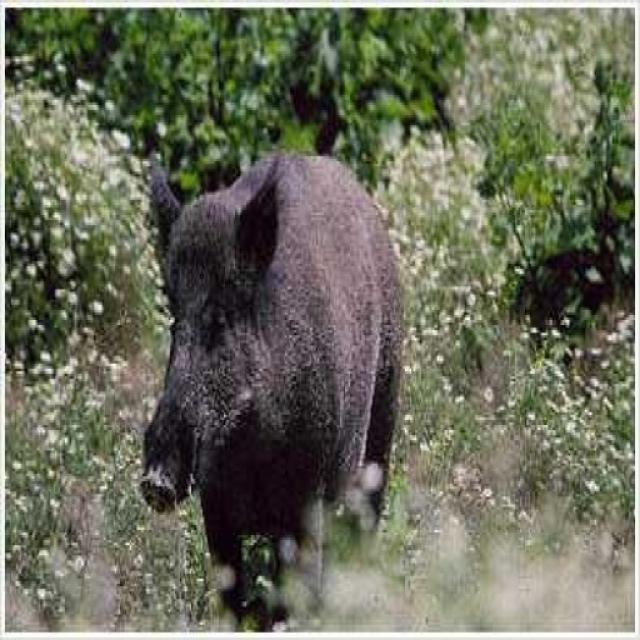WILD BOAR: (77, 107, 408, 640)
